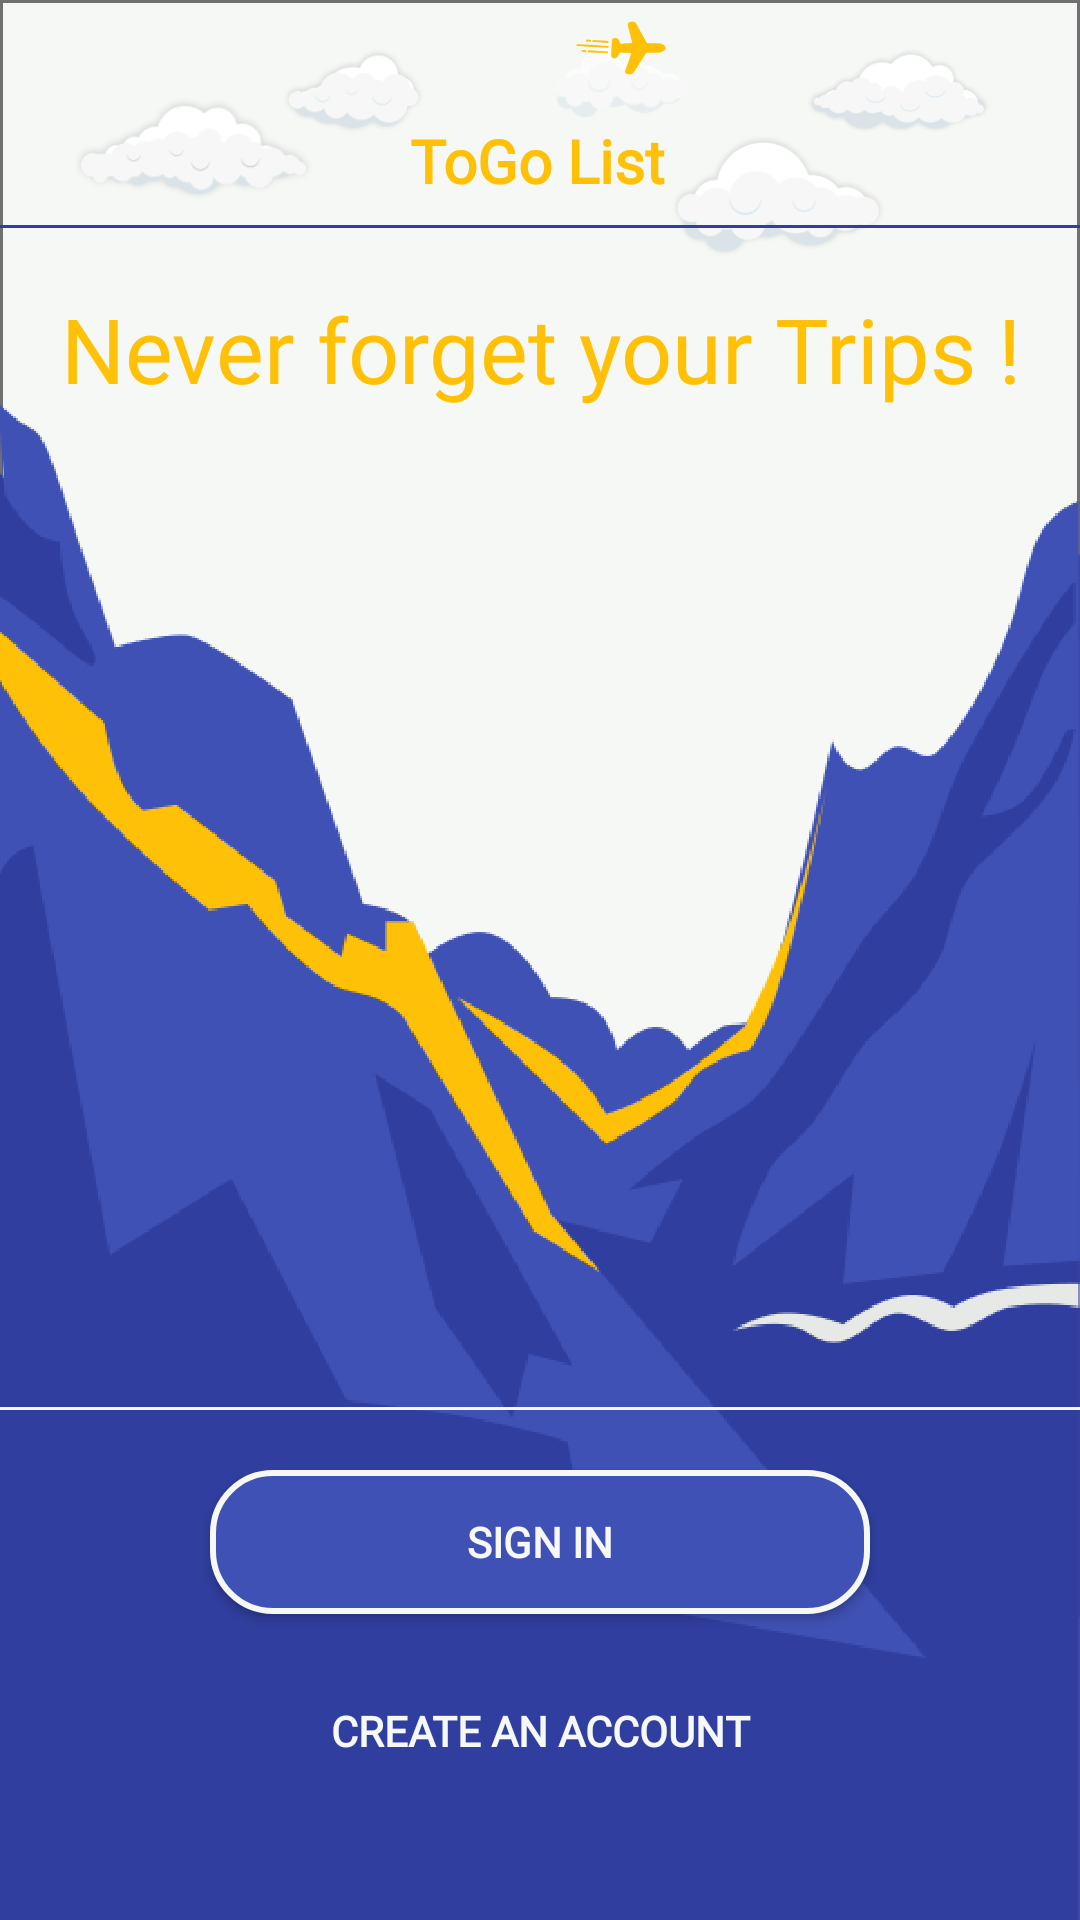

Screen size 1080×1920. Icon name, then its box in pixels as (x1,y1,x2,y2):
planeicon: (576,21,666,75)
